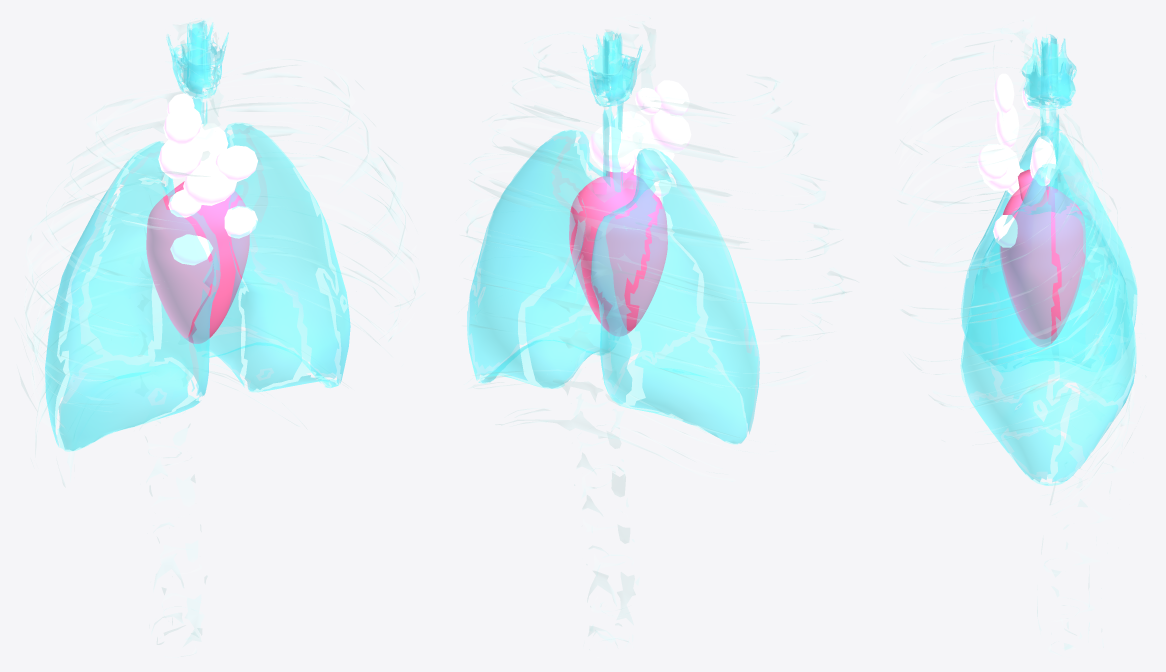
File: heart-anatomical-progressing-1.glb
The picture shows the model from 3 angles, left to right: view 1: azimuth 30°, elevation 25°; view 2: azimuth 150°, elevation 25°; view 3: azimuth 270°, elevation 25°; orthographic projection. The views are drawn at different scales.
Parts seen in each view (by area): view 1: Lungs, Ribcage, Heart, AmyloidAnat_5, AmyloidAnat_0, AmyloidAnat_2, AmyloidAnat_8, AmyloidAnat_7, AmyloidAnat_6, AmyloidAnat_1, AmyloidAnat_9; view 2: Lungs, Ribcage, Heart, AmyloidAnat_1, AmyloidAnat_0, AmyloidAnat_5, AmyloidAnat_2, AmyloidAnat_8; view 3: Lungs, Ribcage, Heart, AmyloidAnat_1, AmyloidAnat_8, AmyloidAnat_0, AmyloidAnat_5, AmyloidAnat_2, AmyloidAnat_6, AortaAnat.
Part boxes in pixels (box(x1,y1,x2,y2)): Lungs: box(45, 20, 350, 451); Ribcage: box(15, 17, 424, 655); Heart: box(146, 181, 249, 343); AmyloidAnat_5: box(183, 160, 236, 205); AmyloidAnat_0: box(158, 137, 202, 178); AmyloidAnat_2: box(163, 105, 201, 144); AmyloidAnat_8: box(215, 145, 257, 181); AmyloidAnat_7: box(170, 234, 212, 265); AmyloidAnat_6: box(224, 206, 257, 238); AmyloidAnat_1: box(195, 123, 228, 160); AmyloidAnat_9: box(168, 189, 201, 217); Lungs: box(467, 31, 759, 444); Ribcage: box(464, 14, 855, 647); Heart: box(569, 174, 667, 336); AmyloidAnat_1: box(589, 126, 633, 172); AmyloidAnat_0: box(648, 111, 691, 152); AmyloidAnat_5: box(629, 130, 674, 172); AmyloidAnat_2: box(654, 80, 689, 115); AmyloidAnat_8: box(610, 111, 649, 138); Lungs: box(960, 34, 1137, 485); Ribcage: box(896, 16, 1136, 654); Heart: box(1000, 186, 1085, 347); AmyloidAnat_1: box(1031, 135, 1056, 185); AmyloidAnat_8: box(977, 144, 1008, 180); AmyloidAnat_0: box(995, 105, 1019, 148); AmyloidAnat_5: box(982, 145, 1019, 190); AmyloidAnat_2: box(993, 73, 1014, 114); AmyloidAnat_6: box(993, 215, 1017, 247); AortaAnat: box(1018, 169, 1047, 205).
Bounding box in the file's own units: 1.21 × 1.94 × 0.7414.
